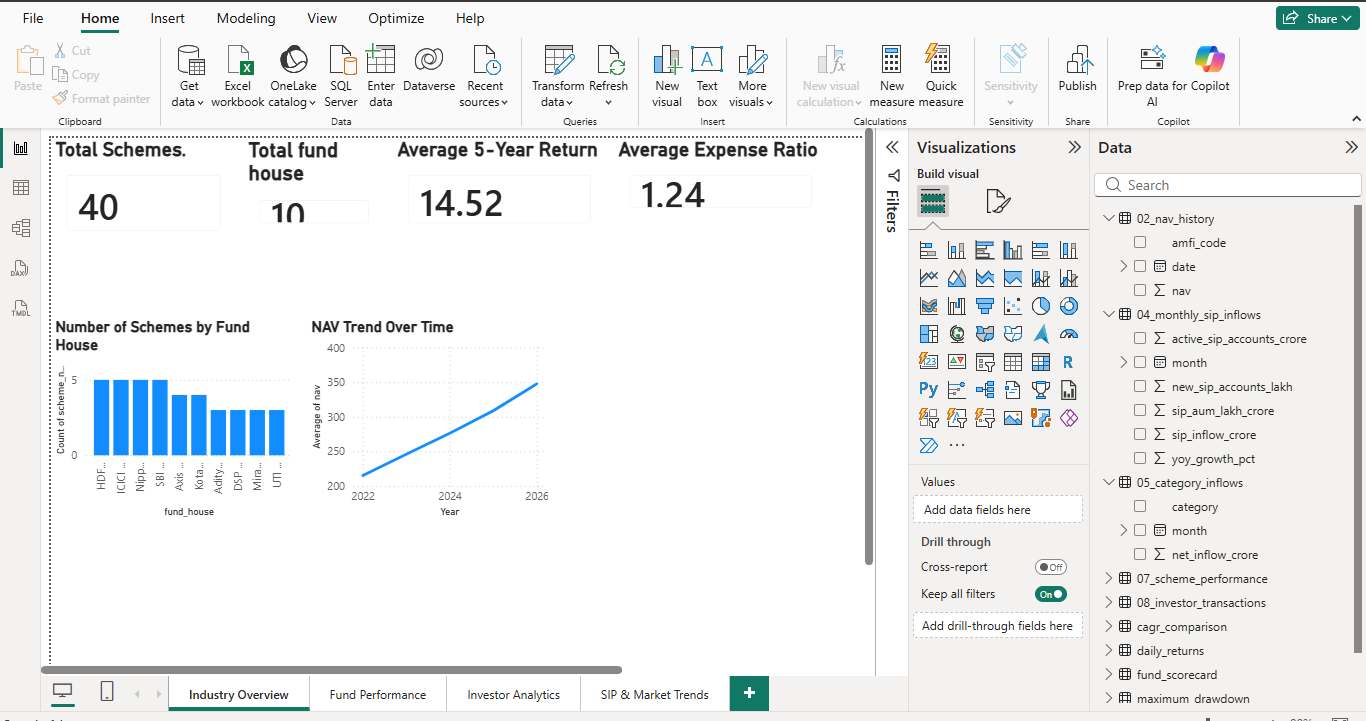

The dashboard page shown, as its layout file describes it:
{"tool":"powerbi","page":{"name":"Industry Overview","canvas":[1280,720],"ordinal":0},"visuals":[{"type":"cardVisual","title":"Total Schemes.","fields":{"Data":["Count(07_scheme_performance.scheme_name)"]},"box":[0,0,206.7,120],"z":0},{"type":"cardVisual","title":"Average 5-Year Return","fields":{"Data":["Avg(07_scheme_performance.return_5yr_pct)"]},"box":[379.6,0,237.8,112.2],"z":1000},{"type":"cardVisual","title":"Average Expense Ratio","fields":{"Data":["Avg(07_scheme_performance.expense_ratio_pct)"]},"box":[625.6,0,237.8,95.6],"z":2000},{"type":"cardVisual","title":"Total fund house","fields":{"Data":["Count(07_scheme_performance.fund_house)"]},"box":[214.8,0,156.7,112.2],"z":3000},{"type":"clusteredColumnChart","title":"Number of Schemes by Fund House","fields":{"Category":["07_scheme_performance.fund_house"],"Y":["CountNonNull(07_scheme_performance.scheme_name)"]},"box":[0,200,273.3,225.6],"z":4000},{"type":"lineChart","title":"NAV Trend Over Time","fields":{"Category":["02_nav_history.date.Variation.Date Hierarchy.Year","02_nav_history.date.Variation.Date Hierarchy.Quarter","02_nav_history.date.Variation.Date Hierarchy.Month","02_nav_history.date.Variation.Date Hierarchy.Day"],"Y":["Avg(02_nav_history.nav)"]},"box":[284.4,200,273.3,225.6],"z":5000}]}

Visuals, with their boxes on the page's 1280x720 design canvas (x1, y1, x2, y2). These are canvas units, not pixel positions in the 1366x721 screenshot, which may show the page scaled, cropped or inside an application window:
"Total Schemes." cardVisual: {"x1": 0, "y1": 0, "x2": 207, "y2": 120}
"Average 5-Year Return" cardVisual: {"x1": 380, "y1": 0, "x2": 617, "y2": 112}
"Average Expense Ratio" cardVisual: {"x1": 626, "y1": 0, "x2": 863, "y2": 96}
"Total fund house" cardVisual: {"x1": 215, "y1": 0, "x2": 372, "y2": 112}
"Number of Schemes by Fund House" clusteredColumnChart: {"x1": 0, "y1": 200, "x2": 273, "y2": 426}
"NAV Trend Over Time" lineChart: {"x1": 284, "y1": 200, "x2": 558, "y2": 426}
